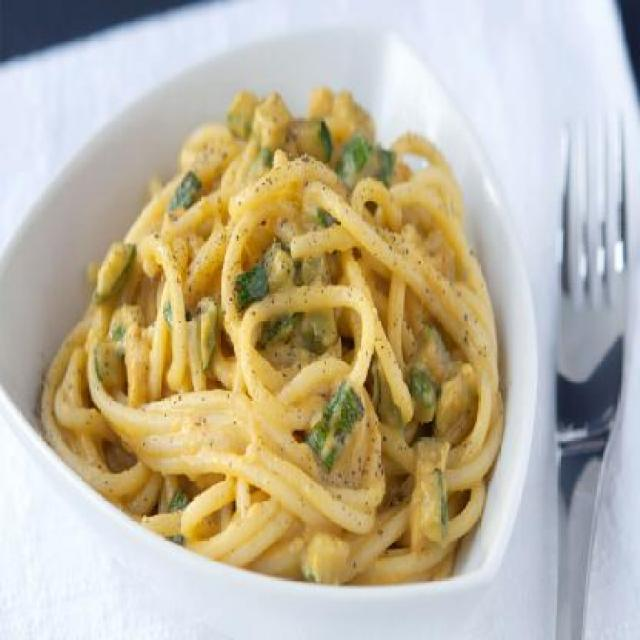Pasta with carbonara sauce: (61, 51, 497, 590)
